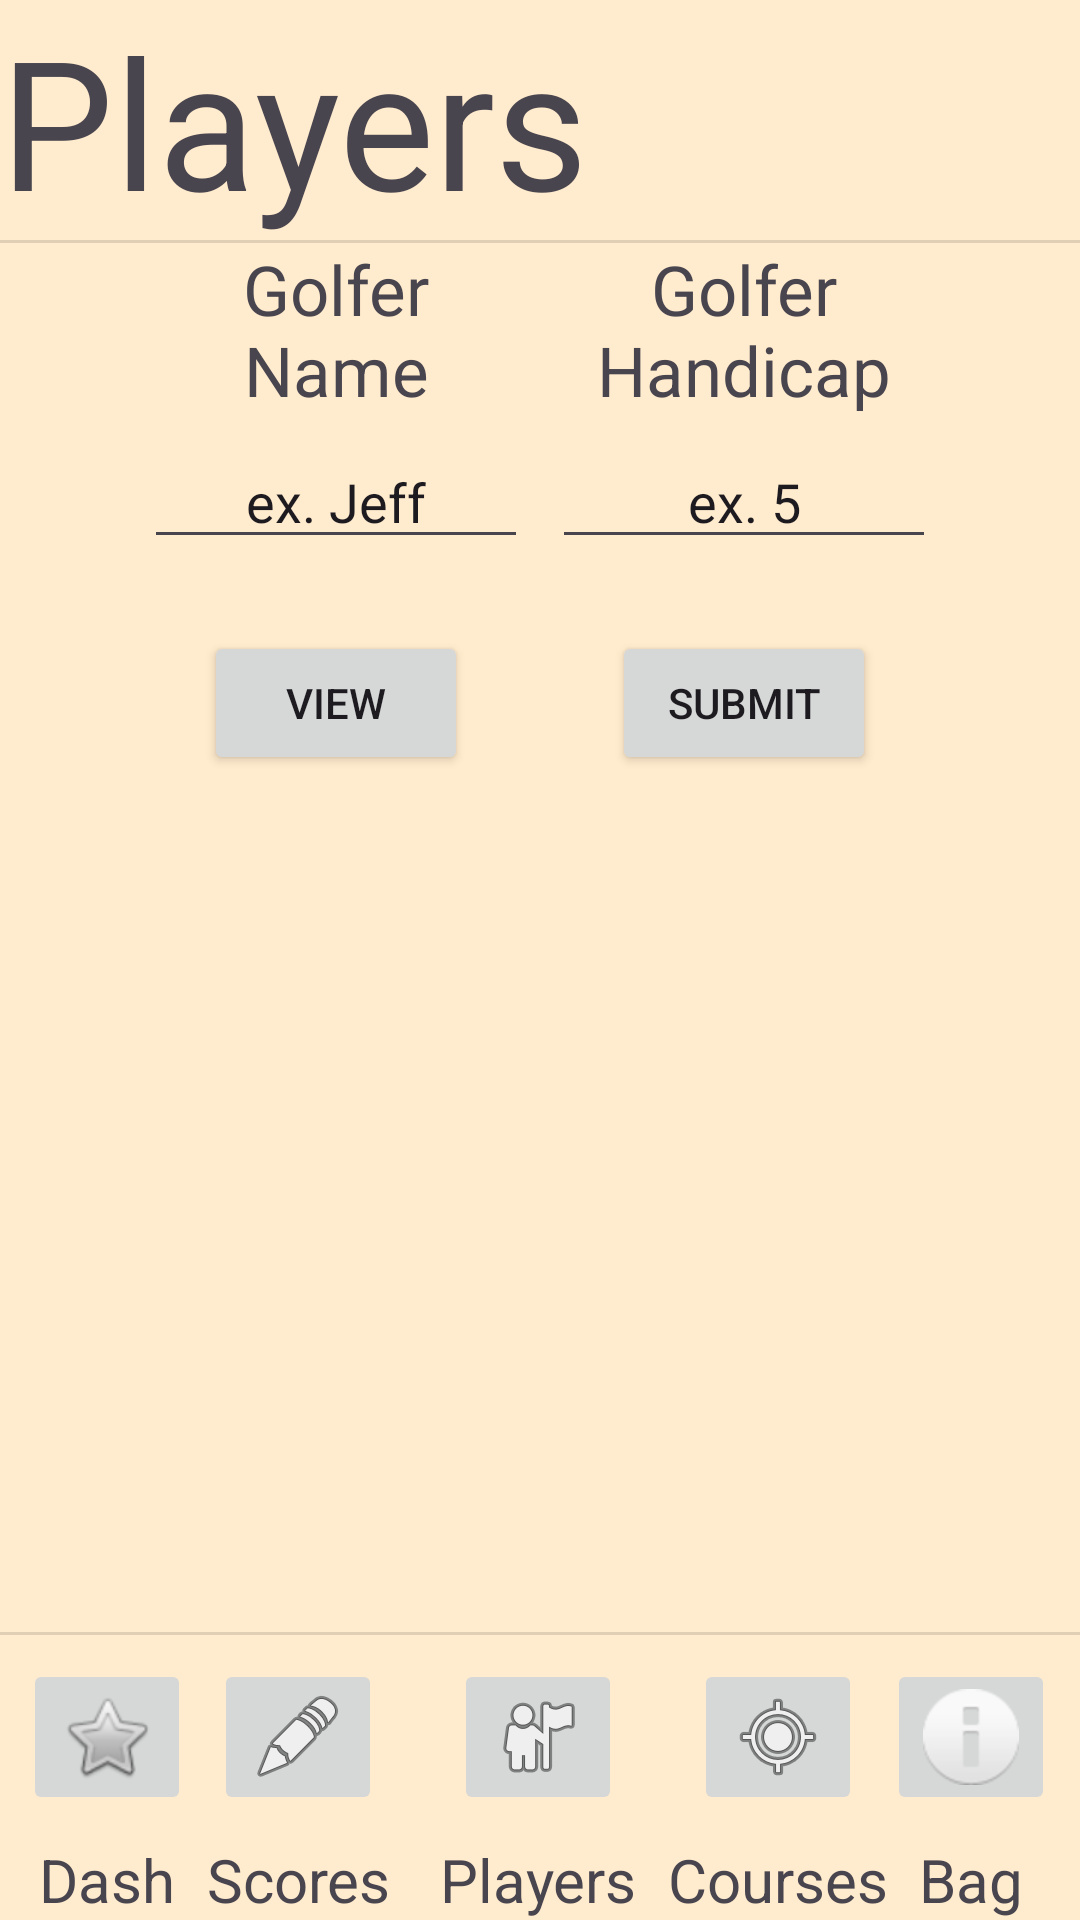

Locate icon controls on the screen. Image size 1080 × 1920, boxes as {"x1": x1, "y1": y1, "x2": x2, "y2": y2}.
edit: {"x1": 226, "y1": 1677, "x2": 370, "y2": 1797}
info: {"x1": 899, "y1": 1677, "x2": 1043, "y2": 1797}
mylocation: {"x1": 706, "y1": 1677, "x2": 850, "y2": 1797}
myplaces: {"x1": 466, "y1": 1677, "x2": 610, "y2": 1797}
star: {"x1": 35, "y1": 1677, "x2": 179, "y2": 1797}
